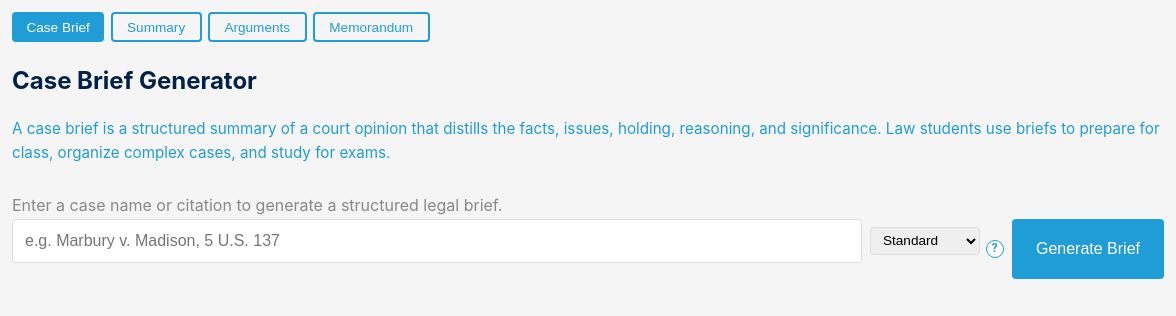
DraftingView › carries the query into the Arguments and Memorandum tabs
Type "Marbury v. Madison" into the field with placeholder "e.g. Marbury v. Madison, 5 U.S. 137" at (437, 241), box [12, 219, 862, 263]
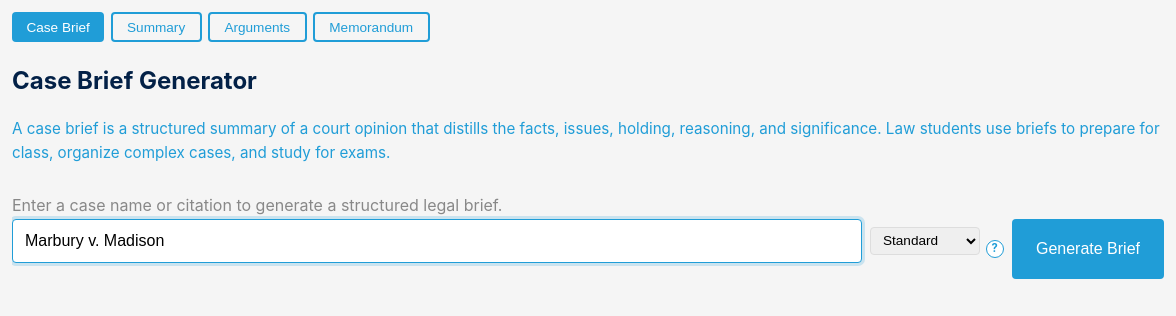
Click the button "Arguments" at (257, 27), box [208, 12, 306, 42]
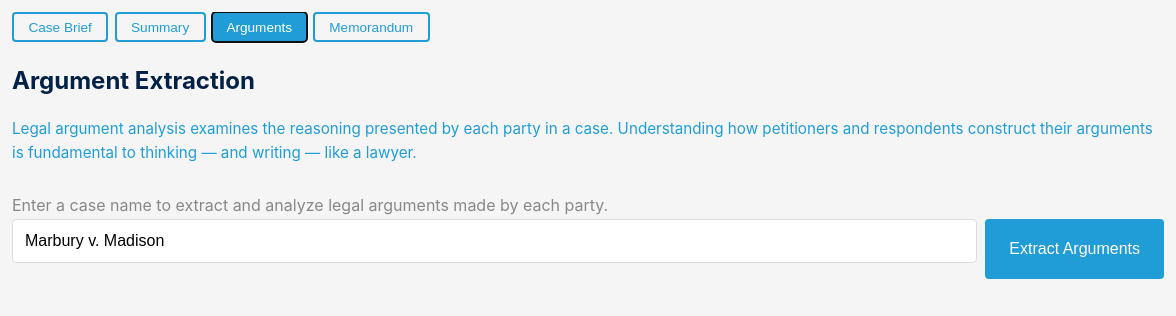
Expected: the field showing "Marbury v. Madison" is shown, [12, 219, 977, 263]
Click the button "Memorandum" at (371, 27), box [313, 12, 430, 42]
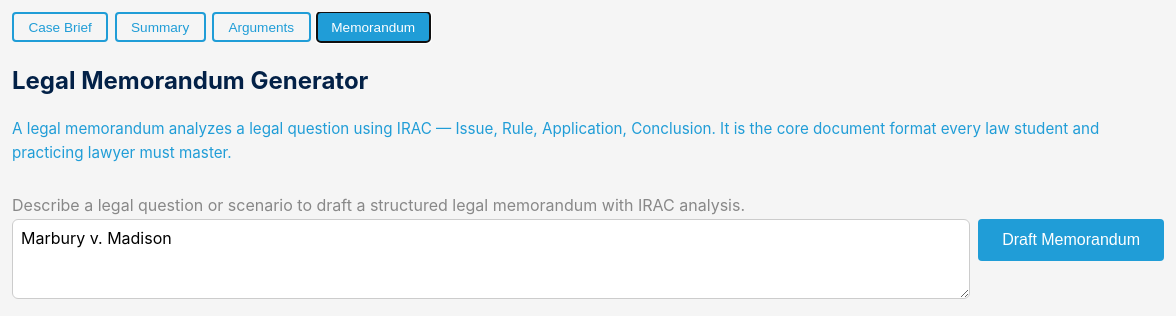
Expected: the text box showing "Marbury v. Madison" is shown, [12, 219, 970, 299]
